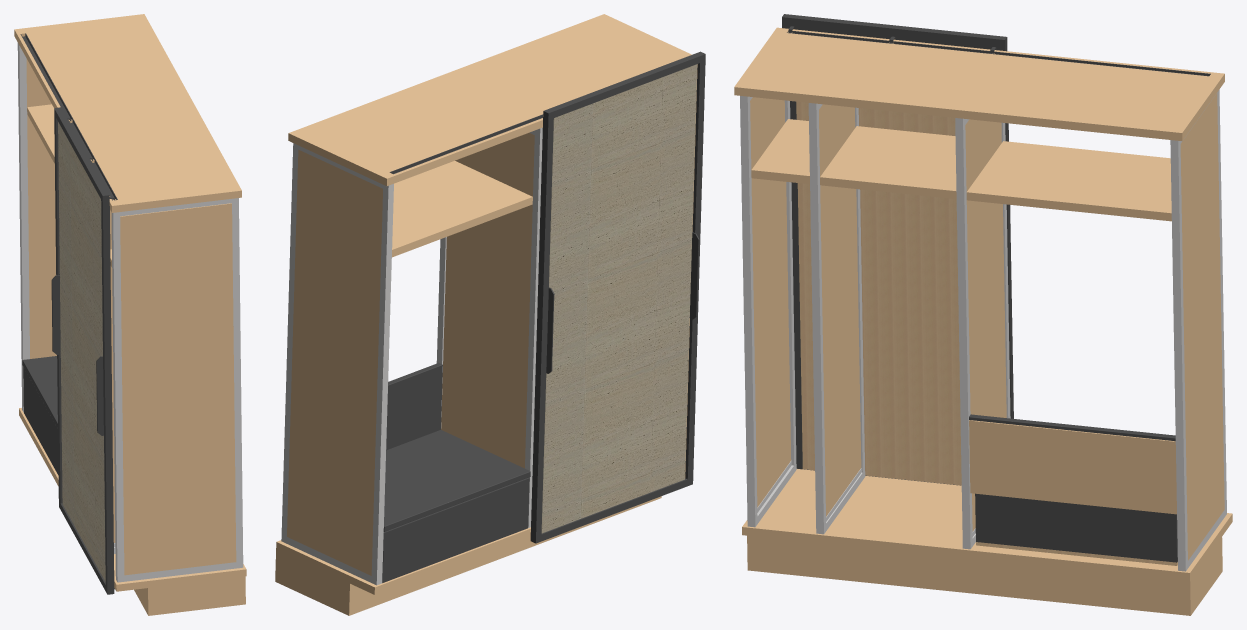
File: WardrobeTest.FBX
3 views of the same model, side by side, from view 1: azimuth 30°, elevation 25°; view 2: azimuth 150°, elevation 25°; view 3: azimuth 270°, elevation 25° (orthographic). The views are drawn at different scales.
Visible parts, largest first — view 1: Extrusion [14138], Joined Solid Geometry [88838], Wardrobe Door Wardrobe Door [75090], Extrusion [13829], Extrusion [7040], Extrusion [6106], Extrusion [9158], Extrusion [7269], Joined Solid Geometry [89453], Wardrobe Drawer Unit Wardrobe Drawer Unit [28713], Sweep [56061], Extrusion [90143] (+4 smaller); view 2: Wardrobe Door Wardrobe Door [75090], Extrusion [13829], Joined Solid Geometry [88838], Joined Solid Geometry [80050], Sweep [56061], Extrusion [81256], Wardrobe Drawer Unit Wardrobe Drawer Unit [28713], Extrusion [6106], Extrusion [9158], Extrusion [7007], Joined Solid Geometry [89453], Extrusion [7169] (+3 smaller); view 3: Wardrobe Door Wardrobe Door [75090], Joined Solid Geometry [88838], Extrusion [81256], Extrusion [6106], Extrusion [13829], Joined Solid Geometry [89453], Sweep [56382], Extrusion [77439], Extrusion [14138], Wardrobe Drawer Unit Wardrobe Drawer Unit [28713], Joined Solid Geometry [80050], Extrusion [7269] (+9 smaller).
Boxes of the visible parts, left/top/right/bottom form: Extrusion [14138]: left=120, top=203, right=236, bottom=575; Joined Solid Geometry [88838]: left=14, top=14, right=241, bottom=212; Wardrobe Door Wardrobe Door [75090]: left=51, top=107, right=116, bottom=594; Extrusion [13829]: left=26, top=59, right=56, bottom=358; Extrusion [7040]: left=111, top=212, right=124, bottom=582; Extrusion [6106]: left=134, top=576, right=245, bottom=615; Extrusion [9158]: left=17, top=43, right=29, bottom=412; Extrusion [7269]: left=232, top=198, right=243, bottom=568; Joined Solid Geometry [89453]: left=19, top=408, right=246, bottom=591; Wardrobe Drawer Unit Wardrobe Drawer Unit [28713]: left=23, top=367, right=58, bottom=475; Sweep [56061]: left=22, top=356, right=57, bottom=428; Extrusion [90143]: left=20, top=33, right=117, bottom=200; Wardrobe Door Wardrobe Door [75090]: left=530, top=51, right=705, bottom=543; Extrusion [13829]: left=287, top=149, right=382, bottom=575; Joined Solid Geometry [88838]: left=288, top=14, right=691, bottom=186; Joined Solid Geometry [80050]: left=441, top=132, right=534, bottom=468; Sweep [56061]: left=383, top=362, right=530, bottom=531; Extrusion [81256]: left=392, top=161, right=532, bottom=257; Wardrobe Drawer Unit Wardrobe Drawer Unit [28713]: left=382, top=477, right=529, bottom=582; Extrusion [6106]: left=275, top=496, right=661, bottom=615; Extrusion [9158]: left=371, top=184, right=393, bottom=585; Extrusion [7007]: left=525, top=127, right=542, bottom=527; Joined Solid Geometry [89453]: left=276, top=527, right=530, bottom=594; Extrusion [7169]: left=281, top=143, right=298, bottom=543; Wardrobe Door Wardrobe Door [75090]: left=782, top=14, right=1013, bottom=485; Joined Solid Geometry [88838]: left=734, top=27, right=1224, bottom=140; Extrusion [81256]: left=751, top=119, right=1171, bottom=221; Extrusion [6106]: left=747, top=535, right=1222, bottom=615; Extrusion [13829]: left=1180, top=93, right=1224, bottom=560; Joined Solid Geometry [89453]: left=742, top=469, right=1232, bottom=580; Sweep [56382]: left=969, top=420, right=1176, bottom=514; Extrusion [77439]: left=819, top=104, right=861, bottom=516; Extrusion [14138]: left=750, top=97, right=791, bottom=507; Wardrobe Drawer Unit Wardrobe Drawer Unit [28713]: left=975, top=493, right=1177, bottom=565; Joined Solid Geometry [80050]: left=965, top=119, right=1006, bottom=531; Extrusion [7269]: left=740, top=96, right=757, bottom=527.
Size of the model in its own units: 45.96 by 84.31 by 77.38.
Materials: 7 (4 with a texture image).
